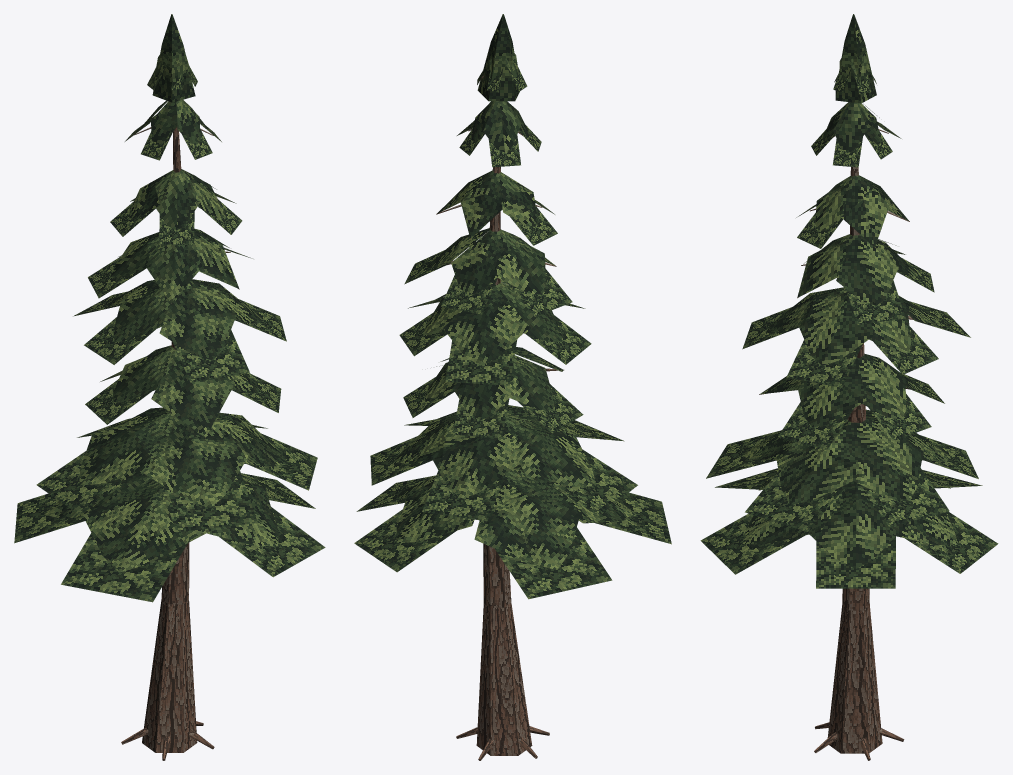
The model's file is TREE_Pine_B_LOD1.glb.
The picture shows the model from 3 angles, left to right: view 1: azimuth 30°, elevation 25°; view 2: azimuth 150°, elevation 25°; view 3: azimuth 270°, elevation 25°; orthographic projection.
Parts seen in each view (by area): view 1: TREE_Pine_B_LOD1__Foliage, TREE_Pine_B_LOD1__Card, TREE_Pine_B_LOD1__Bark; view 2: TREE_Pine_B_LOD1__Foliage, TREE_Pine_B_LOD1__Card, TREE_Pine_B_LOD1__Bark; view 3: TREE_Pine_B_LOD1__Foliage, TREE_Pine_B_LOD1__Card, TREE_Pine_B_LOD1__Bark.
Boxes of the visible parts, <box> form: TREE_Pine_B_LOD1__Foliage: <box>44,14,288,572</box>; TREE_Pine_B_LOD1__Card: <box>14,65,325,602</box>; TREE_Pine_B_LOD1__Bark: <box>121,127,239,760</box>; TREE_Pine_B_LOD1__Foliage: <box>393,14,636,569</box>; TREE_Pine_B_LOD1__Card: <box>354,65,671,599</box>; TREE_Pine_B_LOD1__Bark: <box>436,75,557,760</box>; TREE_Pine_B_LOD1__Foliage: <box>741,14,957,568</box>; TREE_Pine_B_LOD1__Card: <box>700,68,998,588</box>; TREE_Pine_B_LOD1__Bark: <box>759,79,913,760</box>.
Bounding box in the file's own units: 5.66 × 14.85 × 5.49.
Materials: 3 (3 with a texture image).
